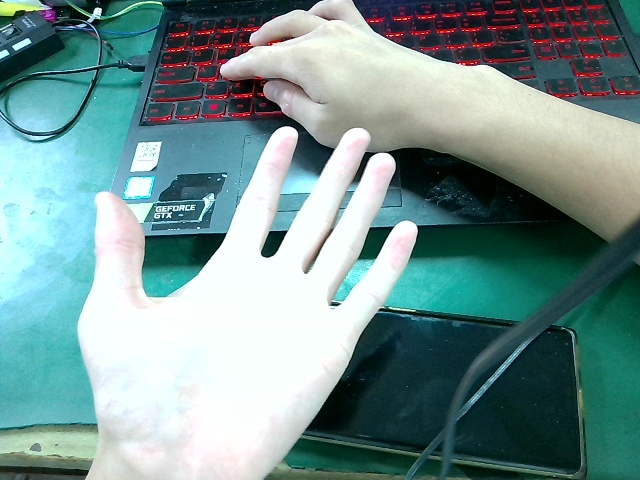paper: (56, 122, 423, 480)
